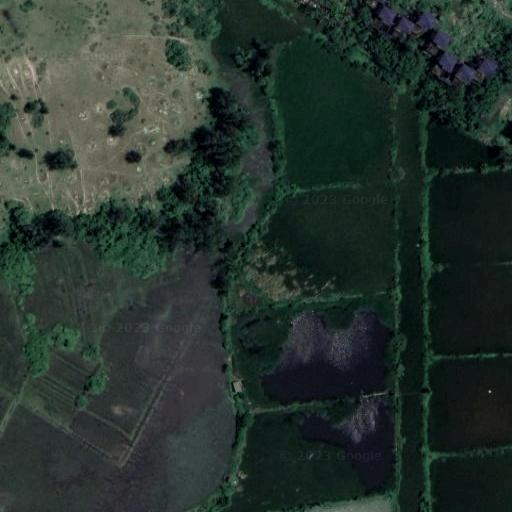building: (435, 49, 458, 73), (376, 4, 399, 27), (454, 61, 476, 84), (395, 16, 417, 38), (417, 12, 439, 33), (476, 58, 498, 79), (430, 29, 451, 49)
